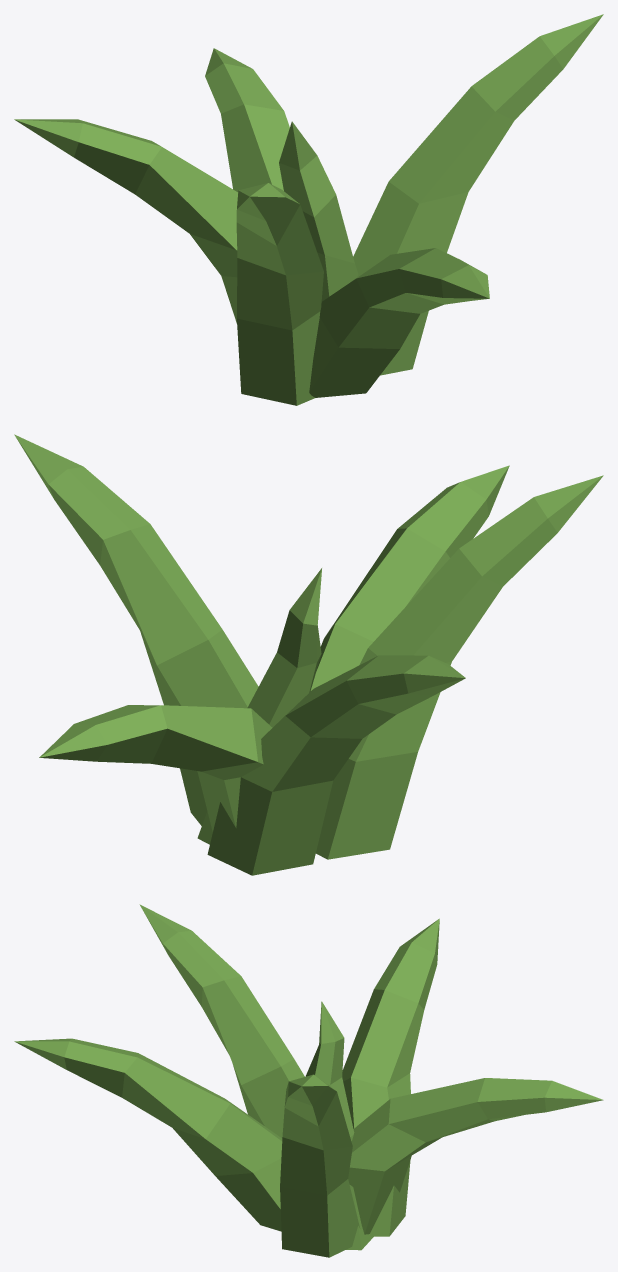
File: GrassPlant1Separate.fbx
3 renders of one model, top to bottom at view 1: azimuth 30°, elevation 25°; view 2: azimuth 150°, elevation 25°; view 3: azimuth 270°, elevation 25°, orthographic. The views are drawn at different scales.
Parts seen in each view (by area): view 1: pCylinder4, pCylinder5, pCylinder1, pCylinder2, pCylinder3, pCylinder6; view 2: pCylinder5, pCylinder2, pCylinder4, pCylinder3, pCylinder1, pCylinder6; view 3: pCylinder1, pCylinder3, pCylinder4, pCylinder2, pCylinder5, pCylinder6.
Part boxes in pixels (bbox=[...]): pCylinder4: bbox=[353, 14, 603, 375]; pCylinder5: bbox=[236, 183, 323, 405]; pCylinder1: bbox=[309, 248, 489, 397]; pCylinder2: bbox=[14, 119, 237, 323]; pCylinder3: bbox=[205, 48, 289, 192]; pCylinder6: bbox=[279, 121, 358, 301]; pCylinder5: bbox=[316, 475, 603, 859]; pCylinder2: bbox=[207, 655, 465, 875]; pCylinder4: bbox=[14, 434, 258, 825]; pCylinder3: bbox=[39, 705, 272, 831]; pCylinder1: bbox=[310, 465, 509, 690]; pCylinder6: bbox=[197, 568, 321, 844]; pCylinder1: bbox=[14, 1038, 282, 1231]; pCylinder3: bbox=[348, 1078, 603, 1234]; pCylinder4: bbox=[280, 1074, 360, 1257]; pCylinder2: bbox=[342, 918, 439, 1236]; pCylinder5: bbox=[139, 904, 304, 1138]; pCylinder6: bbox=[305, 1001, 373, 1250].
Size of the model in its own units: 6.17 by 3.5 by 7.56.
